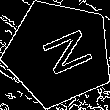N_SW: (27, 24, 91, 82)
